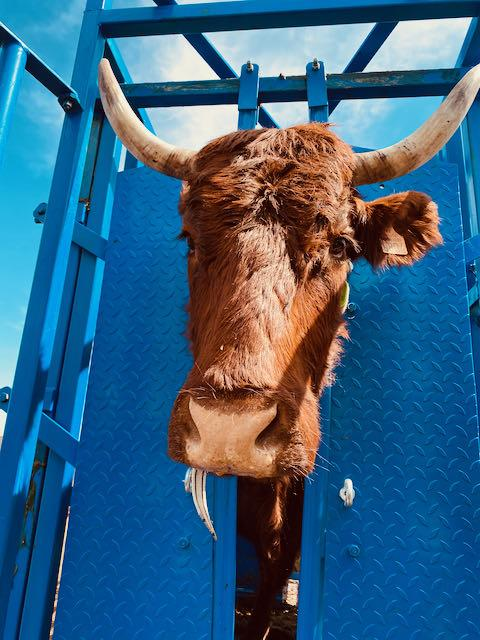muzzles: (154, 384, 328, 485)
